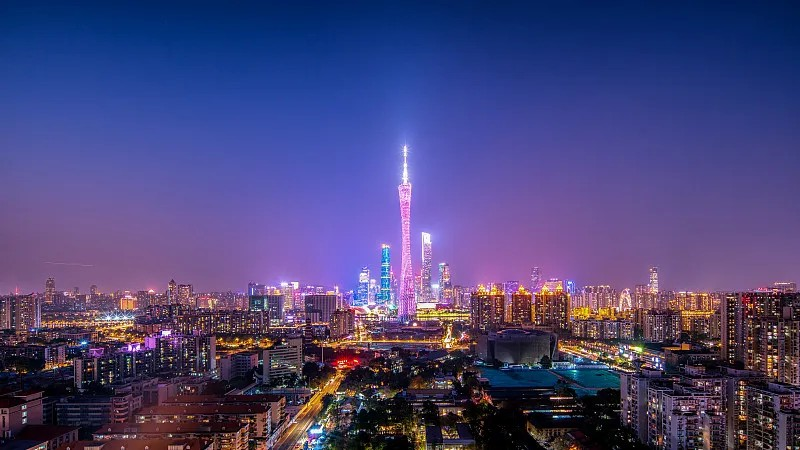Canton: (396, 144, 417, 316)
